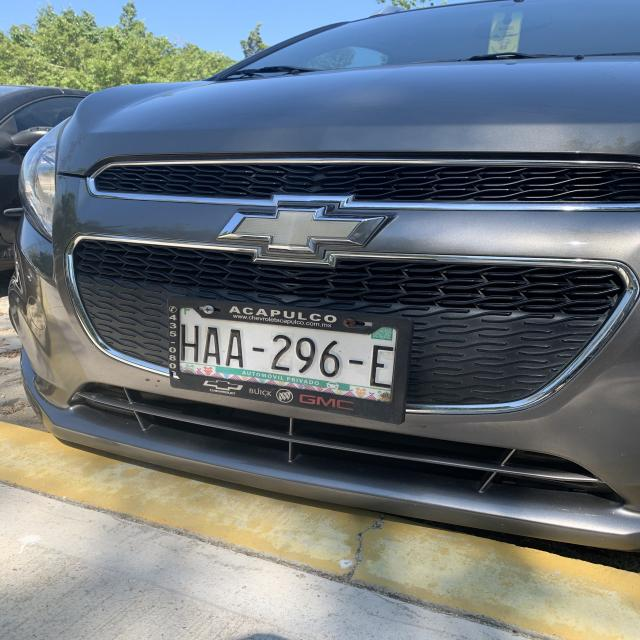placa: (172, 318, 403, 392)
